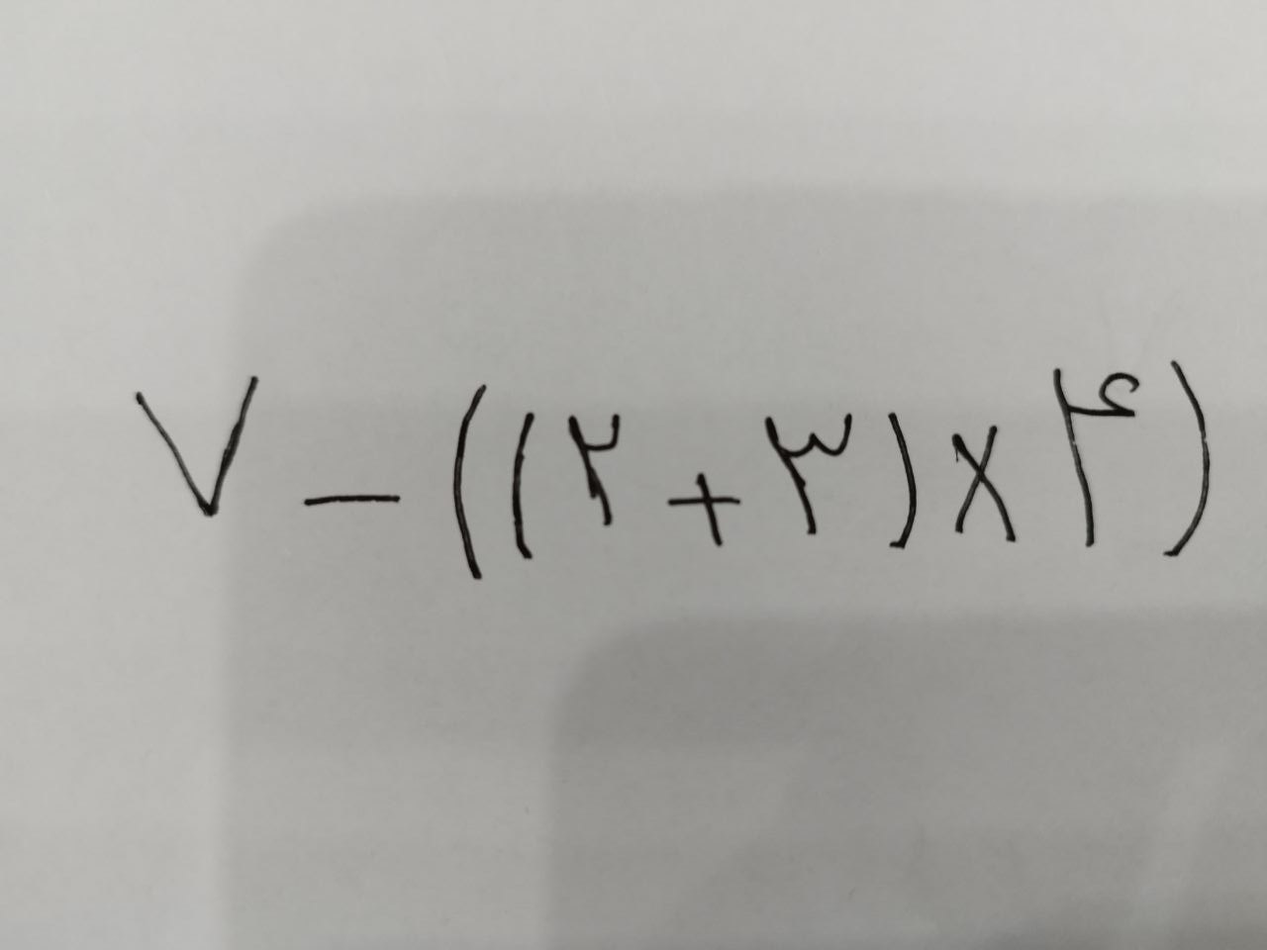character: (179, 281, 348, 390), (1016, 311, 1138, 402), (600, 286, 651, 436), (757, 307, 831, 394), (891, 352, 990, 409), (1175, 308, 1226, 413), (681, 308, 715, 423), (399, 368, 533, 382), (1259, 320, 1267, 408)
